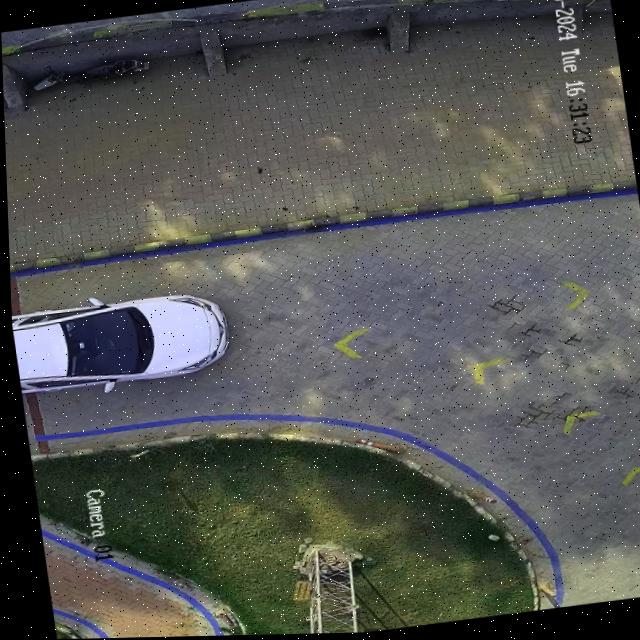car: (9, 295, 224, 393)
